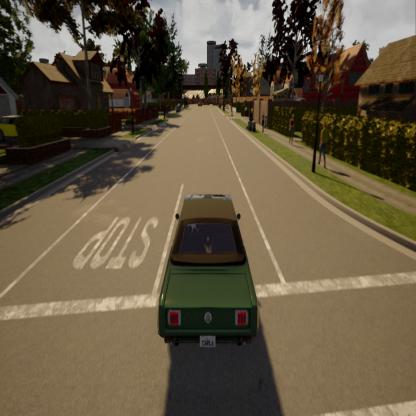Cars: (145, 187, 269, 365)
Pedestrian: (315, 120, 333, 174), (286, 111, 297, 151), (259, 110, 267, 136)
